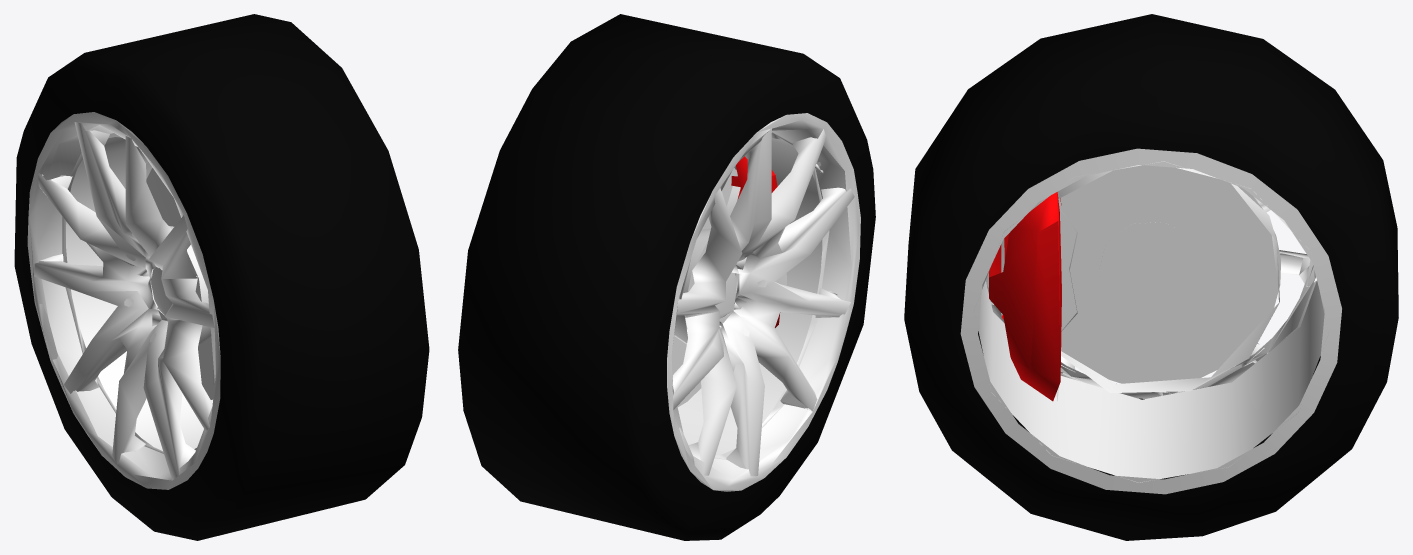
The model's file is mercades_benz_amg_gt_wheel.obj.
The picture shows the model from 3 angles, left to right: view 1: azimuth 30°, elevation 25°; view 2: azimuth 150°, elevation 25°; view 3: azimuth 270°, elevation 25°; orthographic projection.
Visible parts, largest first — view 1: mercades_benz_amg_gt_wheel_body6_model0.004; view 2: mercades_benz_amg_gt_wheel_body6_model0.004; view 3: mercades_benz_amg_gt_wheel_body6_model0.004.
Part boxes in pixels (x1,y1,x2,y2): mercades_benz_amg_gt_wheel_body6_model0.004: (14,14,429,540); mercades_benz_amg_gt_wheel_body6_model0.004: (458,14,875,540); mercades_benz_amg_gt_wheel_body6_model0.004: (904,14,1398,540).
Bounding box in the file's own units: 0.3118 × 0.7043 × 0.7044.
